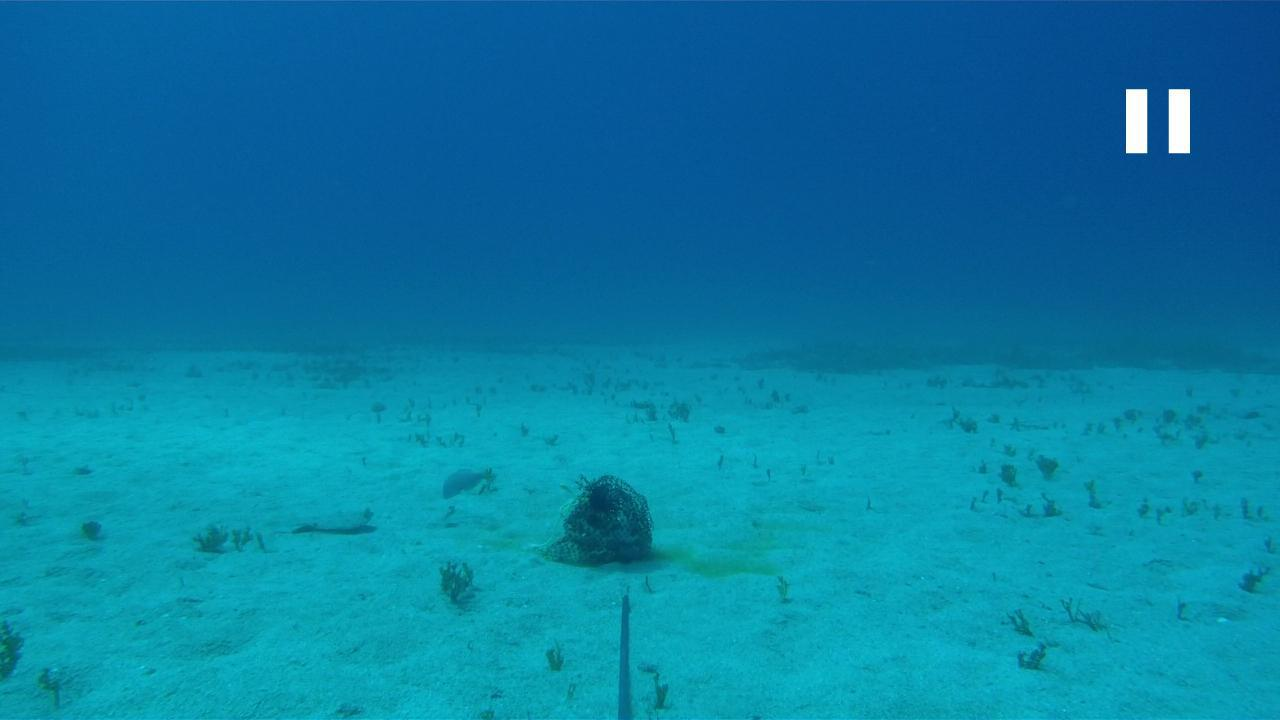bothus: (272, 506, 376, 537)
raor: (440, 466, 492, 504)
